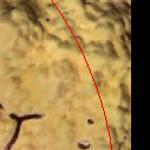alive: (4, 1, 129, 148)
